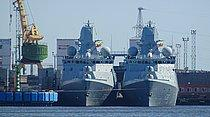MIL_Ship: (118, 26, 180, 108), (59, 25, 119, 107)
